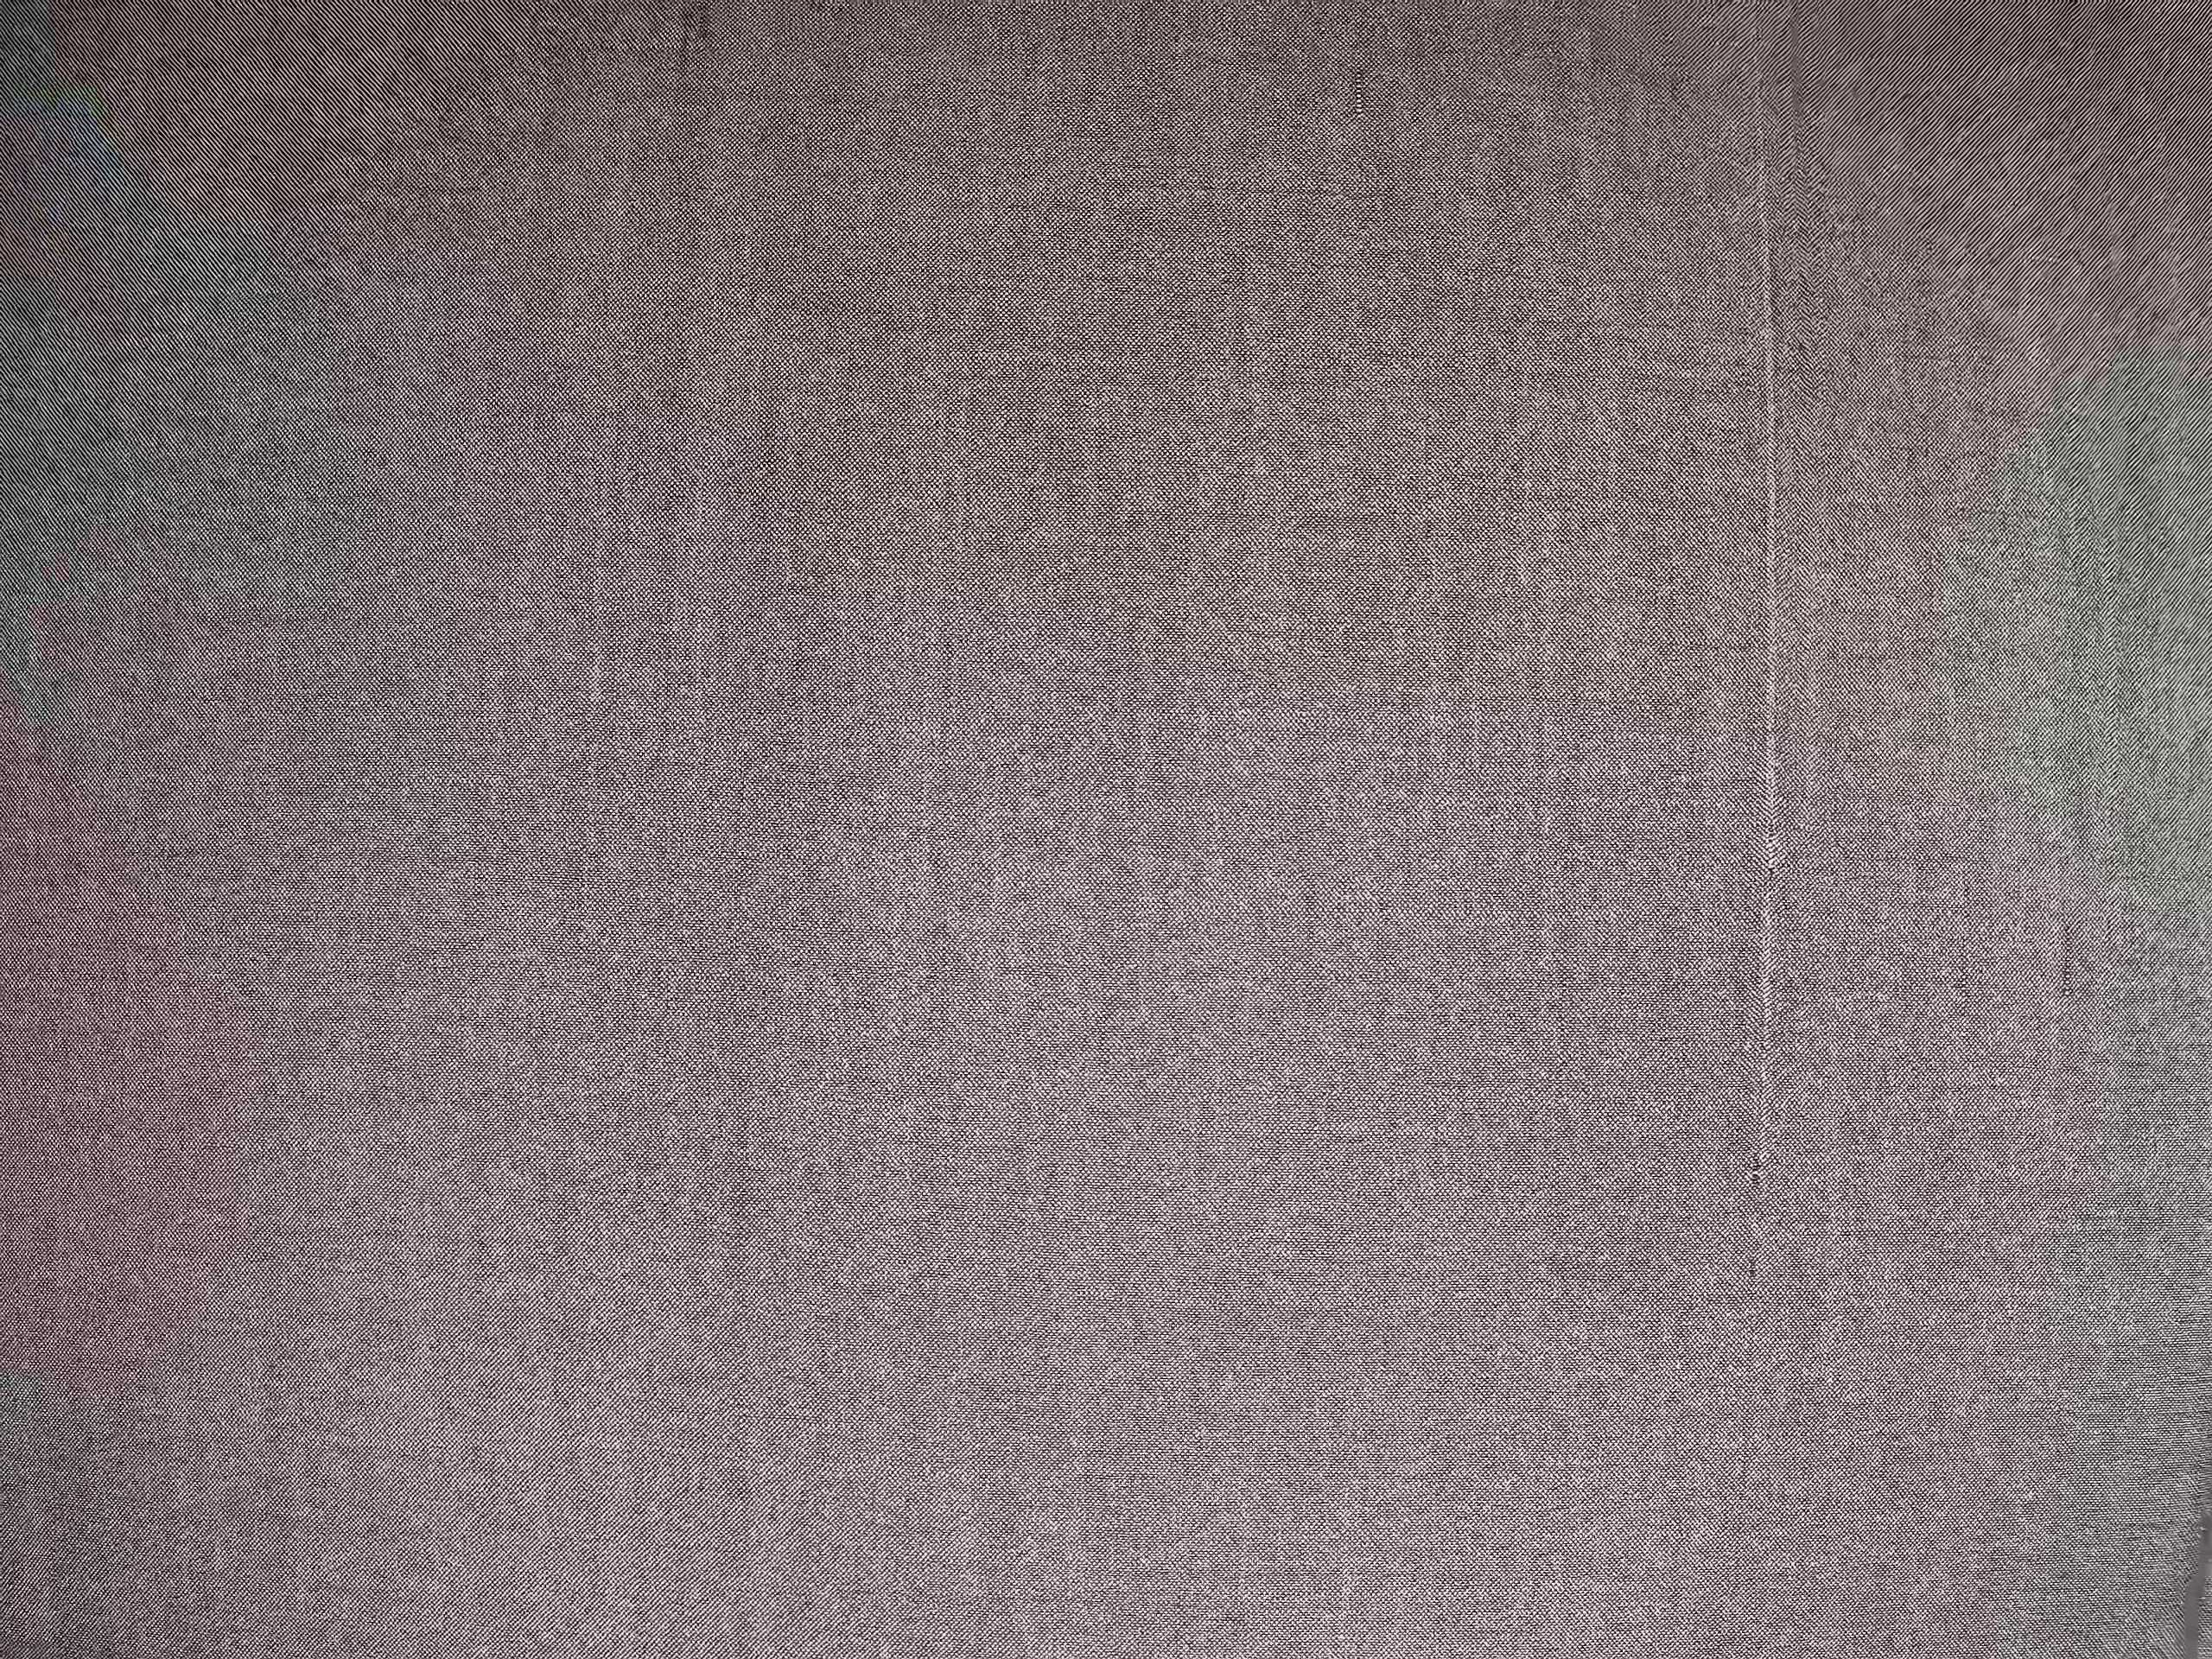hanging-warp: (1735, 2, 1789, 1495)
